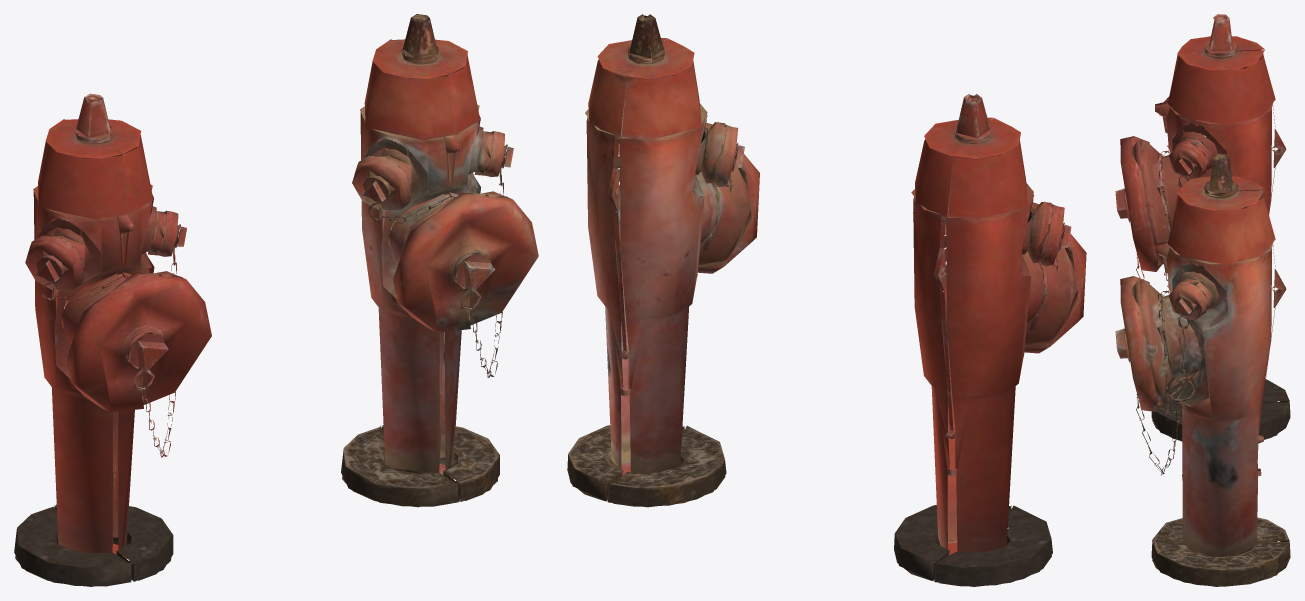
File: borne.glb
3 views of the same model, side by side, from view 1: azimuth 30°, elevation 25°; view 2: azimuth 150°, elevation 25°; view 3: azimuth 270°, elevation 25° (orthographic). The views are drawn at different scales.
Visible parts, largest first — view 1: fire_hydrant, fire_hydrant_aged, fire_hydrant_cap_01_aged, fire_hydrant_cap_01, fire_hydrant_cap_03, fire_hydrant_cap_03_aged, fire_hydrant_chain_aged, fire_hydrant_chain, fire_hydrant_cap_02, fire_hydrant_cap_02_aged; view 2: fire_hydrant, fire_hydrant_aged, fire_hydrant_cap_01, fire_hydrant_cap_01_aged, fire_hydrant_cap_03, fire_hydrant_cap_03_aged; view 3: fire_hydrant_aged, fire_hydrant, fire_hydrant_cap_01_aged, fire_hydrant_cap_01, fire_hydrant_chain_aged, fire_hydrant_cap_02_aged, fire_hydrant_cap_02, fire_hydrant_chain.
Part boxes in pixels (x1,y1,x2,y2): fire_hydrant: (14, 93, 180, 586); fire_hydrant_aged: (341, 14, 506, 507); fire_hydrant_cap_01_aged: (393, 192, 538, 332); fire_hydrant_cap_01: (66, 272, 211, 412); fire_hydrant_cap_03: (25, 235, 84, 291); fire_hydrant_cap_03_aged: (352, 155, 410, 211); fire_hydrant_chain_aged: (367, 145, 504, 377); fire_hydrant_chain: (41, 225, 177, 457); fire_hydrant_cap_02: (158, 211, 186, 256); fire_hydrant_cap_02_aged: (484, 131, 513, 176); fire_hydrant: (894, 94, 1077, 586); fire_hydrant_aged: (567, 14, 750, 507); fire_hydrant_cap_01: (1024, 202, 1086, 353); fire_hydrant_cap_01_aged: (698, 122, 759, 273); fire_hydrant_cap_03: (1041, 204, 1071, 265); fire_hydrant_cap_03_aged: (714, 124, 744, 186); fire_hydrant_aged: (1138, 154, 1290, 586); fire_hydrant: (1138, 14, 1290, 441); fire_hydrant_cap_01_aged: (1115, 276, 1161, 411); fire_hydrant_cap_01: (1115, 136, 1161, 271); fire_hydrant_chain_aged: (1136, 290, 1195, 475); fire_hydrant_cap_02_aged: (1169, 282, 1207, 320); fire_hydrant_cap_02: (1169, 142, 1207, 179); fire_hydrant_chain: (1136, 150, 1194, 280).
Size of the model in its own units: 0.8742 by 0.8004 by 0.3173.
2 materials, 2 textured.
